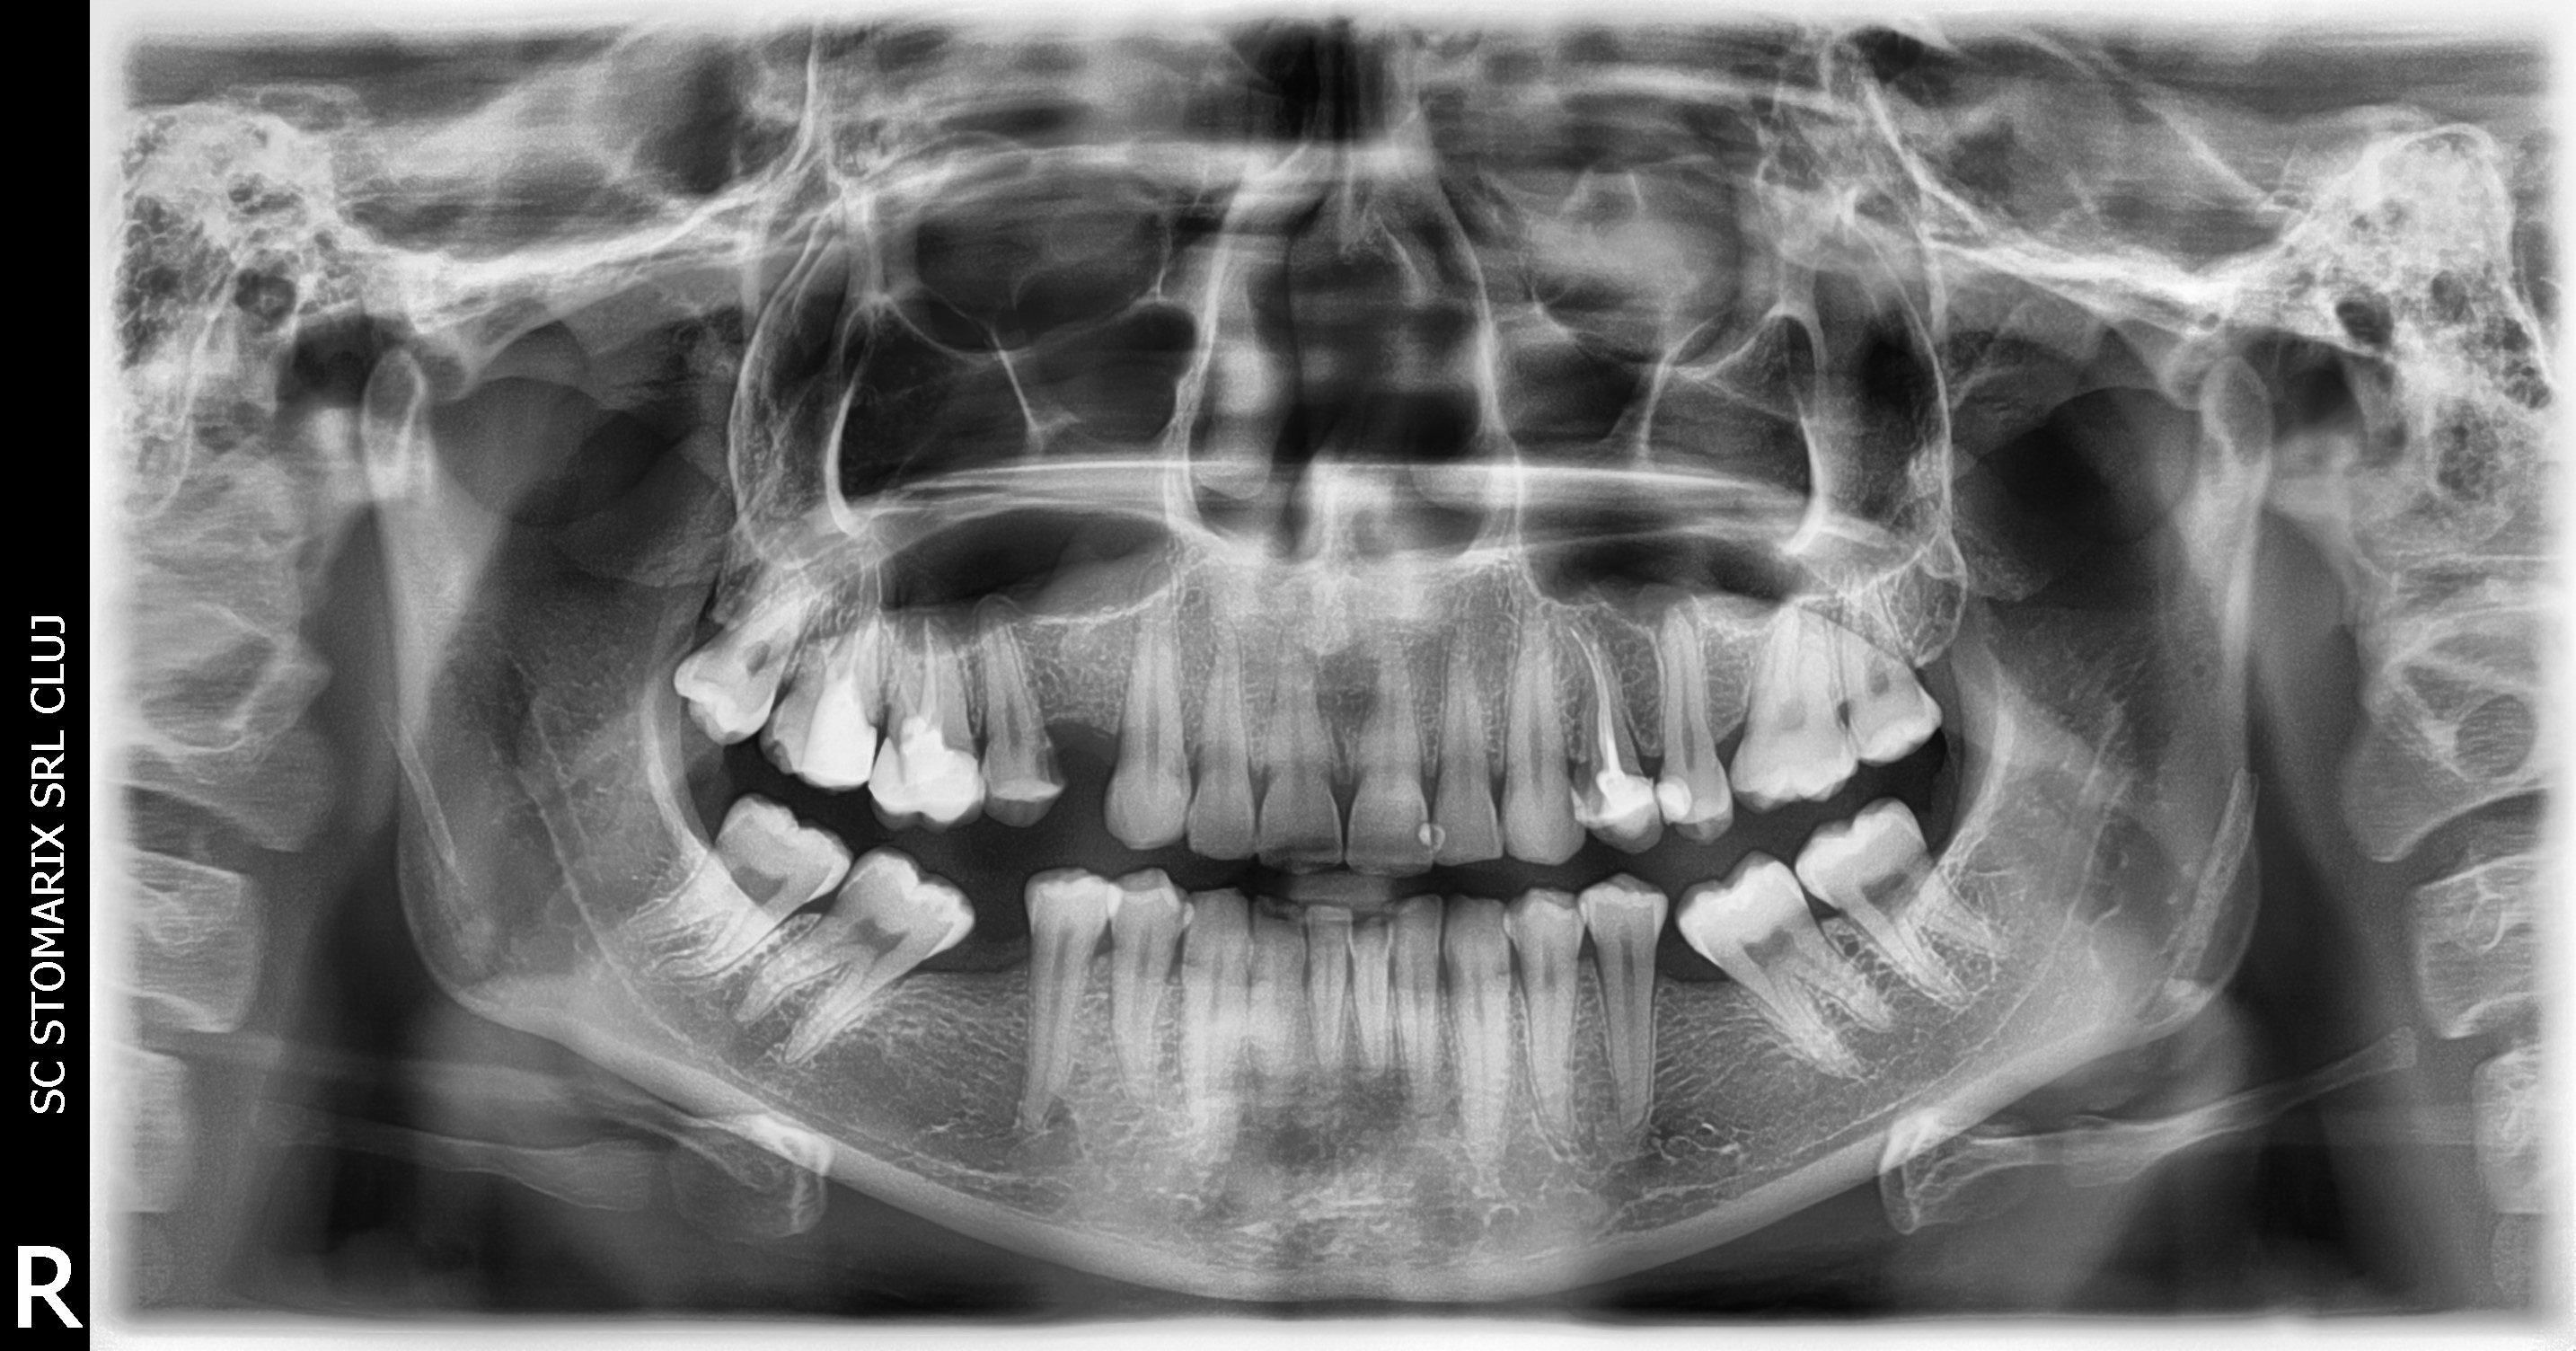CAR: (465, 325, 1561, 1135)
END: (743, 215, 2368, 978), (382, 218, 1360, 957)
OBT: (791, 339, 2493, 1170), (743, 332, 2404, 1181), (681, 383, 2148, 1240), (664, 385, 2113, 1239), (378, 283, 1377, 1126), (346, 267, 1237, 1070)
